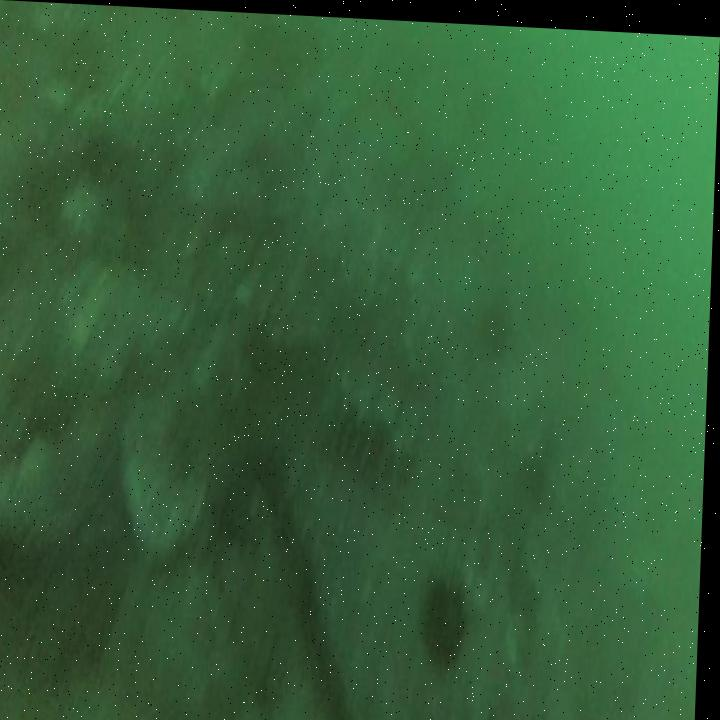echinus: (428, 578, 471, 658)
holothurian: (325, 396, 407, 483)
